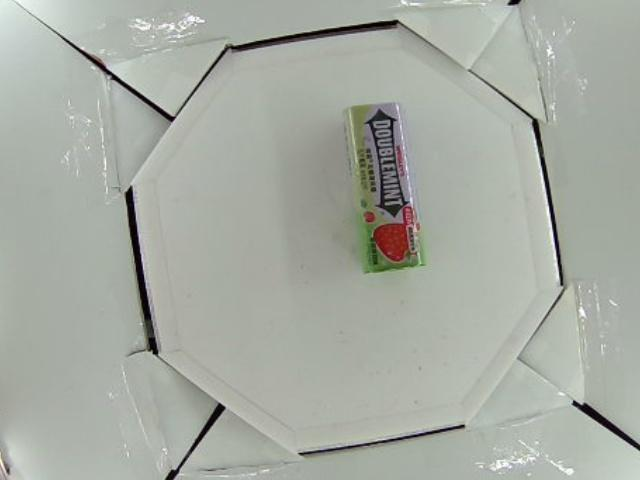Bottle: (344, 101, 428, 274)
